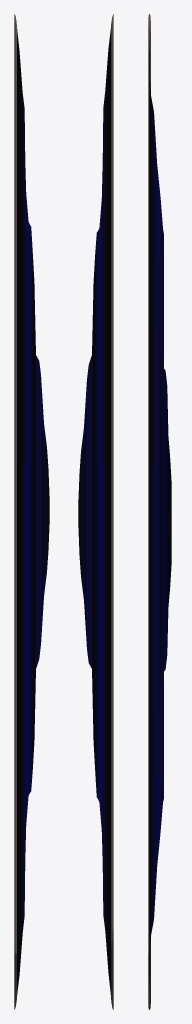
File: blue_flag_222x01.gltf
3 views of the same model, side by side, from view 1: azimuth 30°, elevation 25°; view 2: azimuth 210°, elevation 25°; view 3: azimuth 330°, elevation 25° (orthographic).
Parts seen in each view (by area): view 1: blue_flag_222x01; view 2: blue_flag_222x01; view 3: blue_flag_222x01.
Part boxes in pixels (x1,y1,x2,y2): blue_flag_222x01: (14,14,49,1009); blue_flag_222x01: (78,14,113,1009); blue_flag_222x01: (148,14,171,1009).
Bounding box in the file's own units: 0.0588 × 1.97 × 0.0305.
Materials: 1 (1 with a texture image).
